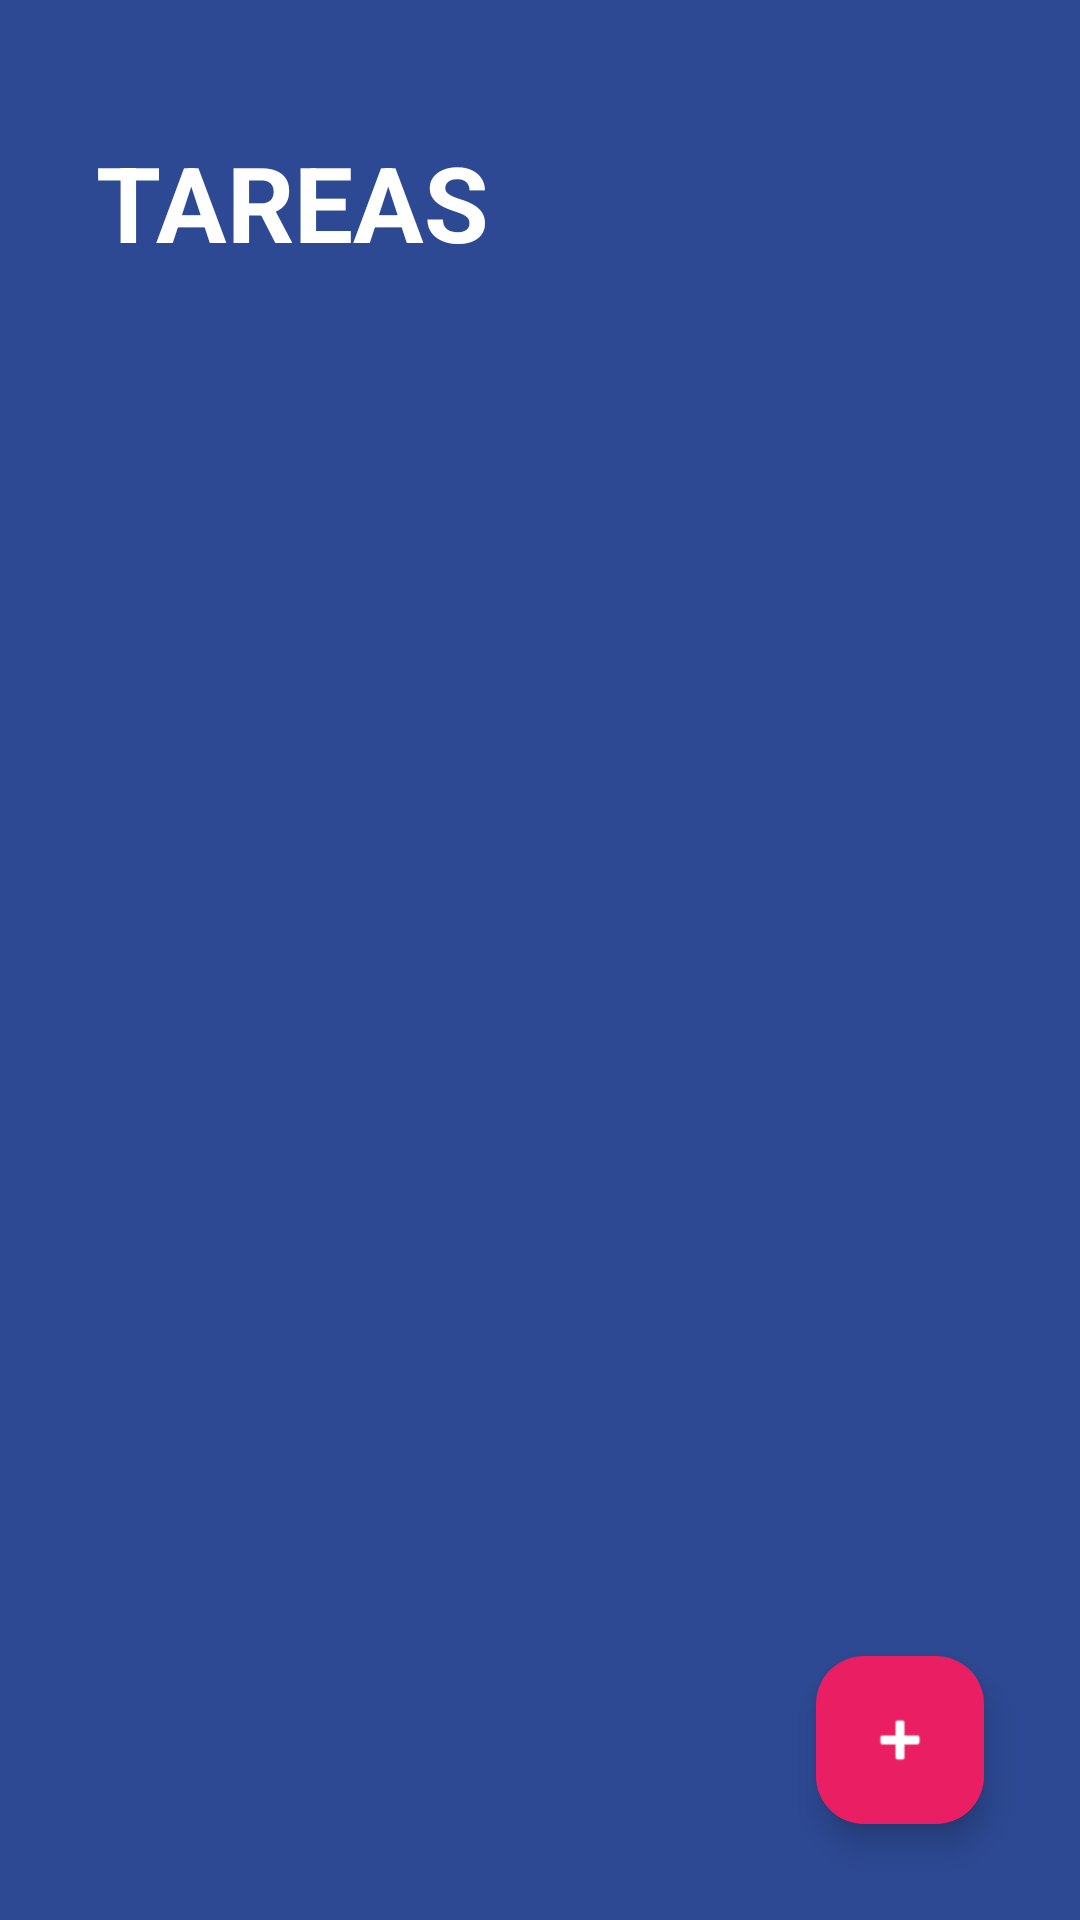

Icons on this 1080*1920 Android screen, each with the point to tap as point (x, y):
add: point (900, 1740)
